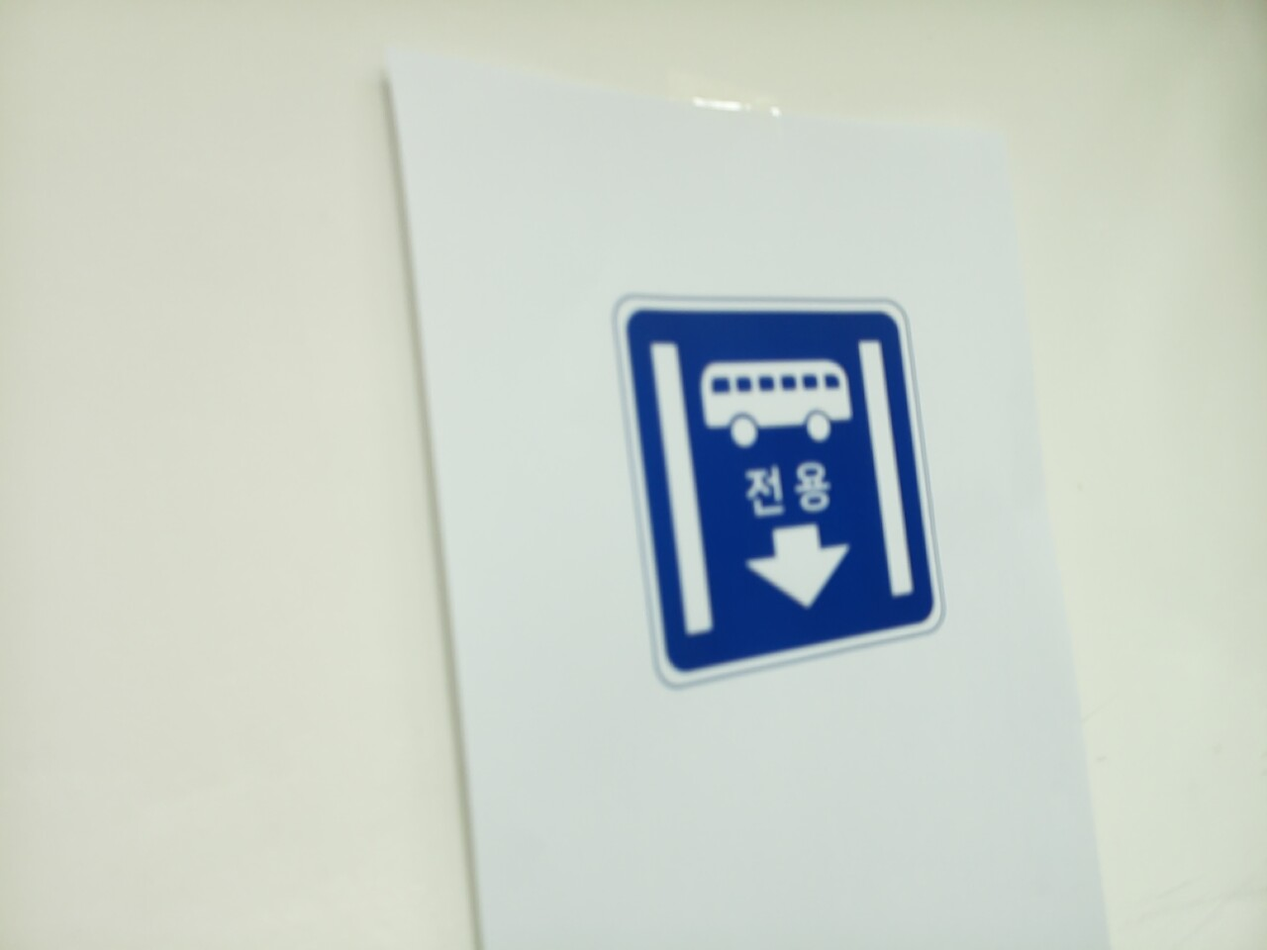bus_only_lane: (617, 299, 943, 683)
